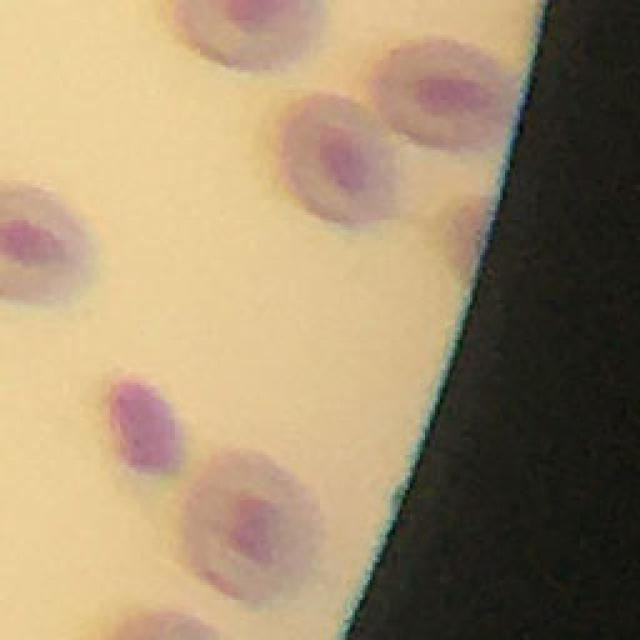RBC: (177, 446, 326, 611), (370, 36, 520, 156), (276, 92, 402, 228), (0, 182, 104, 308), (172, 0, 324, 69)
WBC: (108, 374, 188, 478)
